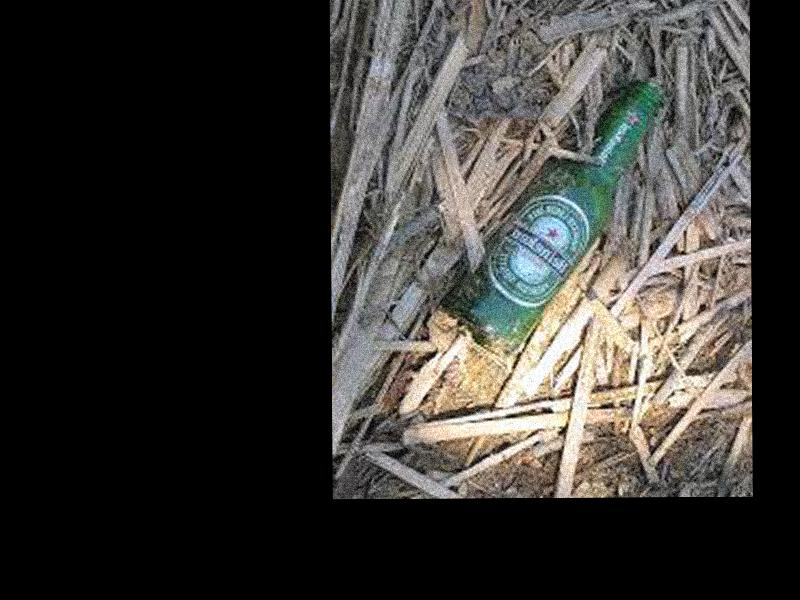Beer: (442, 77, 662, 355)
